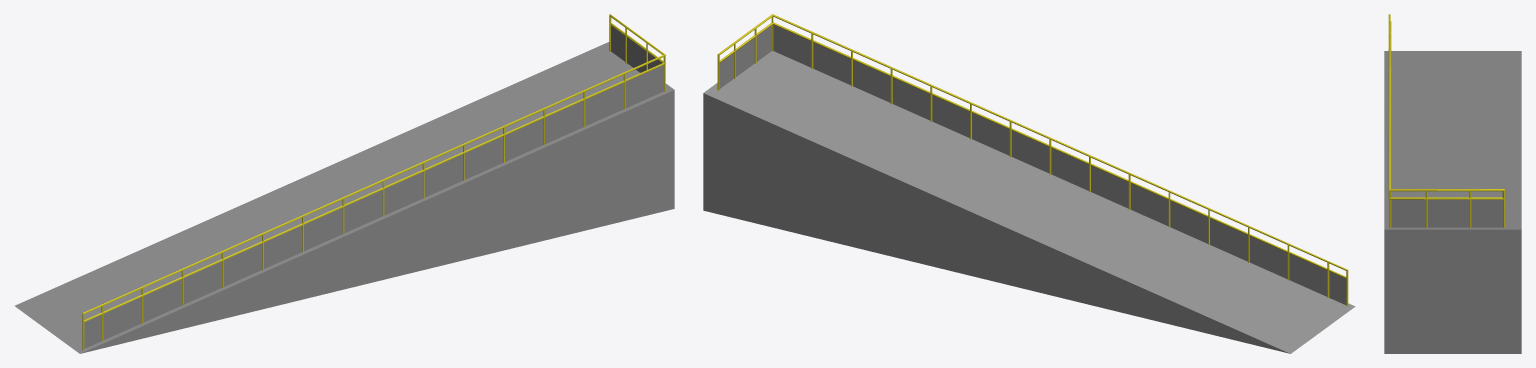
File: escada_SaoSimao.FBX
3 views of the same model, side by side, from view 1: azimuth 30°, elevation 25°; view 2: azimuth 150°, elevation 25°; view 3: azimuth 270°, elevation 25° (orthographic). The views are drawn at different scales.
Visible parts, largest first — view 1: escada_SaoSimao_base, escada_SaoSimao_grade2, escada_SaoSimao_corrimao, escada_SaoSimao_grade1; view 2: escada_SaoSimao_base, escada_SaoSimao_grade2, escada_SaoSimao_corrimao, escada_SaoSimao_grade1; view 3: escada_SaoSimao_base, escada_SaoSimao_grade1, escada_SaoSimao_corrimao.
Boxes of the visible parts, box(x1,y1,x2,y2) form: escada_SaoSimao_base: box(15, 42, 674, 353); escada_SaoSimao_grade2: box(84, 65, 663, 348); escada_SaoSimao_corrimao: box(82, 14, 665, 349); escada_SaoSimao_grade1: box(611, 25, 662, 72); escada_SaoSimao_base: box(703, 51, 1355, 353); escada_SaoSimao_grade2: box(773, 24, 1346, 304); escada_SaoSimao_corrimao: box(717, 14, 1348, 306); escada_SaoSimao_grade1: box(719, 25, 771, 88); escada_SaoSimao_base: box(1384, 51, 1521, 353); escada_SaoSimao_grade1: box(1391, 199, 1502, 227); escada_SaoSimao_corrimao: box(1388, 14, 1504, 227).
Size of the model in its own units: 785 by 197 by 150.
